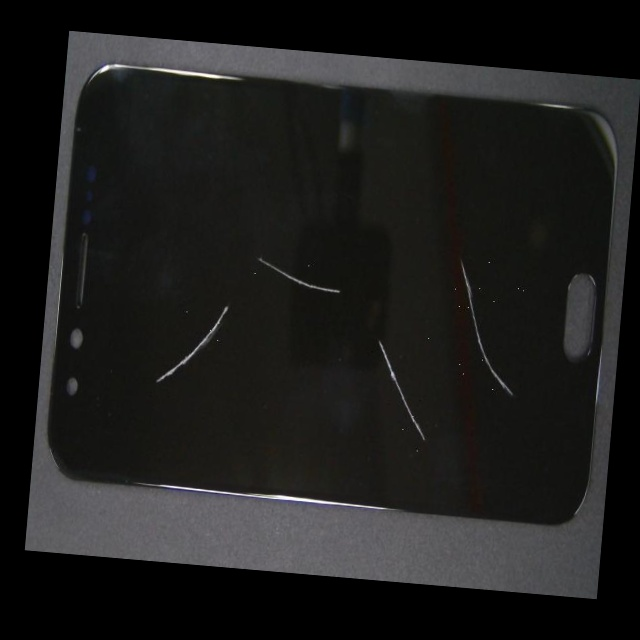scratch: (194, 192, 547, 520), (249, 106, 636, 375), (92, 146, 410, 434), (80, 180, 227, 549)
